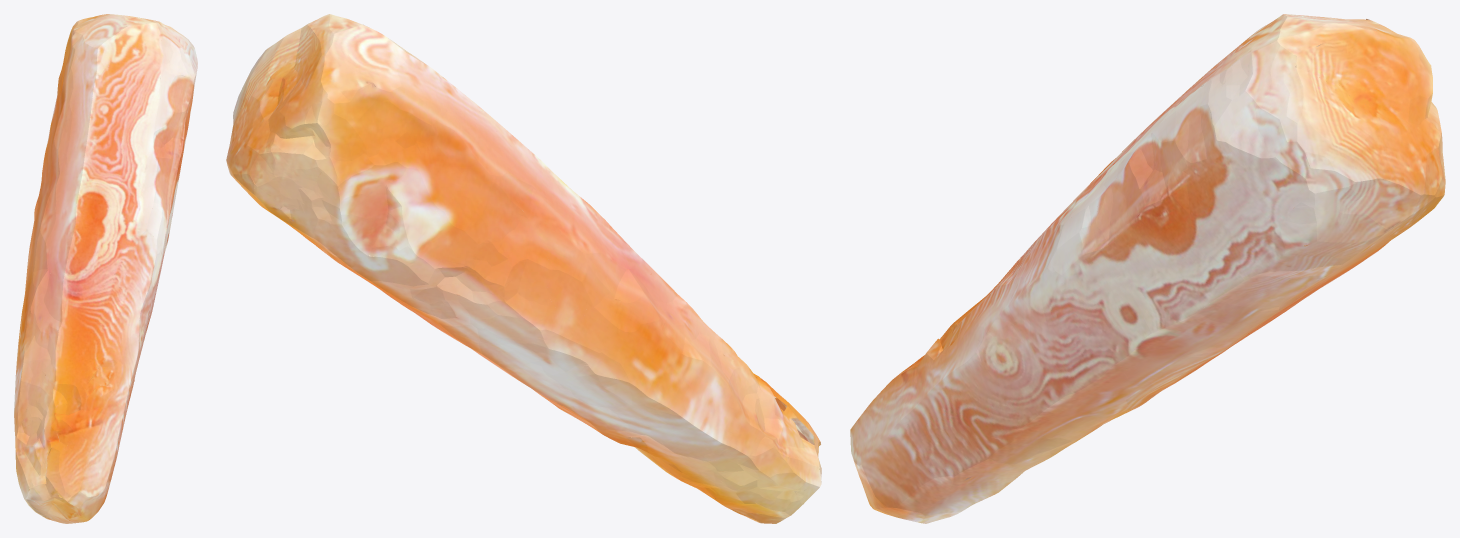
The model's file is carnelian.glb.
3 views of the same model, side by side, from view 1: azimuth 30°, elevation 25°; view 2: azimuth 150°, elevation 25°; view 3: azimuth 270°, elevation 25° (orthographic). The views are drawn at different scales.
Visible parts, largest first — view 1: Object_3, Object_5, Object_2, Object_6, Object_7, Object_8; view 2: Object_5, Object_6, Object_3, Object_4, Object_2; view 3: Object_2, Object_7, Object_4, Object_5, Object_3.
Part boxes in pixels (x1,y1,x2,y2): Object_3: (29,122,157,396); Object_5: (28,14,163,260); Object_2: (41,189,176,523); Object_6: (14,255,81,518); Object_7: (153,21,197,204); Object_8: (40,366,97,497); Object_5: (249,14,560,368); Object_6: (501,269,821,516); Object_3: (493,119,745,369); Object_4: (226,28,453,336); Object_2: (434,326,820,523); Object_2: (850,202,1270,523); Object_7: (1093,40,1310,315); Object_4: (1191,67,1445,342); Object_5: (1160,14,1445,188); Object_3: (942,80,1198,349).
Size of the model in its own units: 0.6096 by 0.7805 by 0.6532.
Materials: 8 (8 with a texture image).
